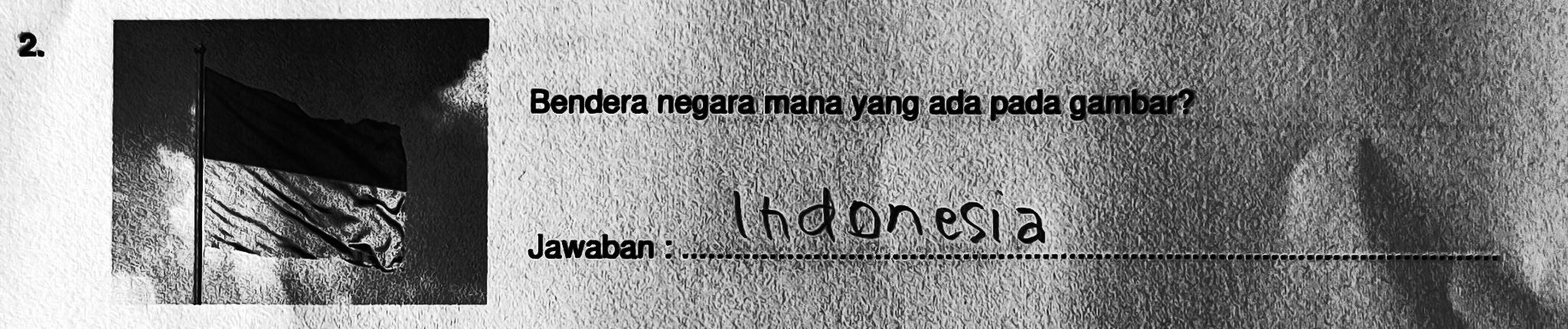jawaban: (727, 185, 1054, 245)
